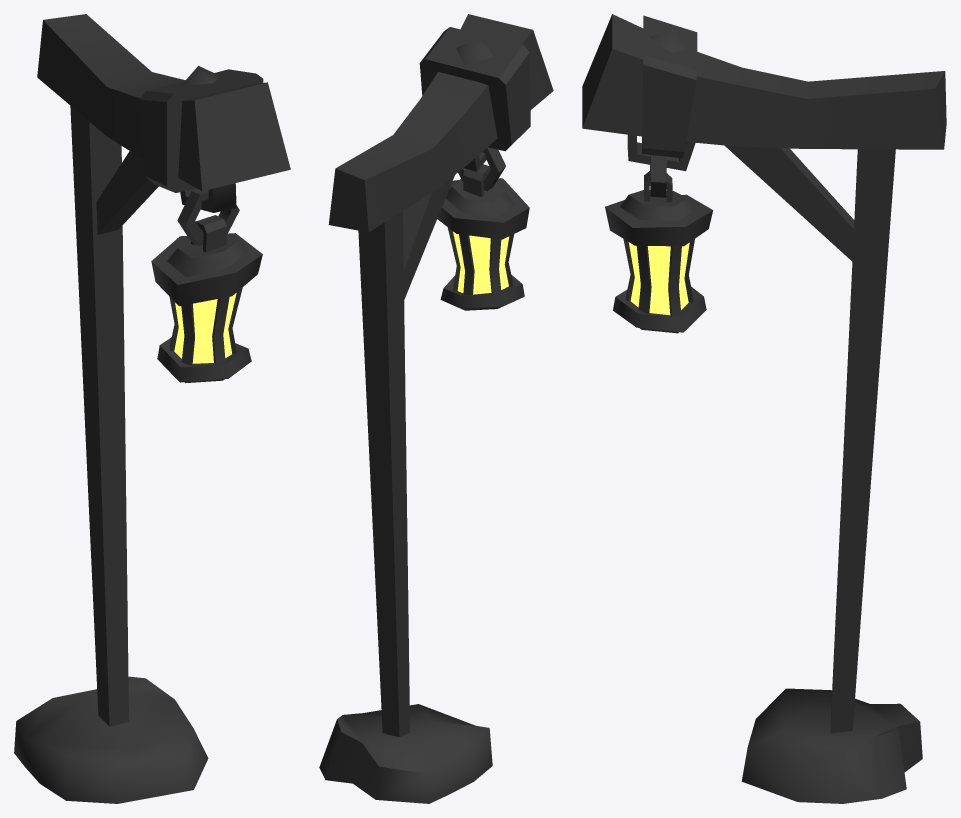
File: SM_PROP_streetlamp_v02_01.FBX
3 renders of one model, left to right at view 1: azimuth 30°, elevation 25°; view 2: azimuth 150°, elevation 25°; view 3: azimuth 270°, elevation 25°, orthographic. The views are drawn at different scales.
Visible parts, largest first — view 1: SM_PROP_streetlamp_v02_01; view 2: SM_PROP_streetlamp_v02_01; view 3: SM_PROP_streetlamp_v02_01.
Boxes of the visible parts, bbox=[...] form: SM_PROP_streetlamp_v02_01: bbox=[14, 14, 290, 803]; SM_PROP_streetlamp_v02_01: bbox=[319, 14, 553, 803]; SM_PROP_streetlamp_v02_01: bbox=[582, 14, 946, 803].
Bounding box in the file's own units: 82.32 × 169 × 378.
